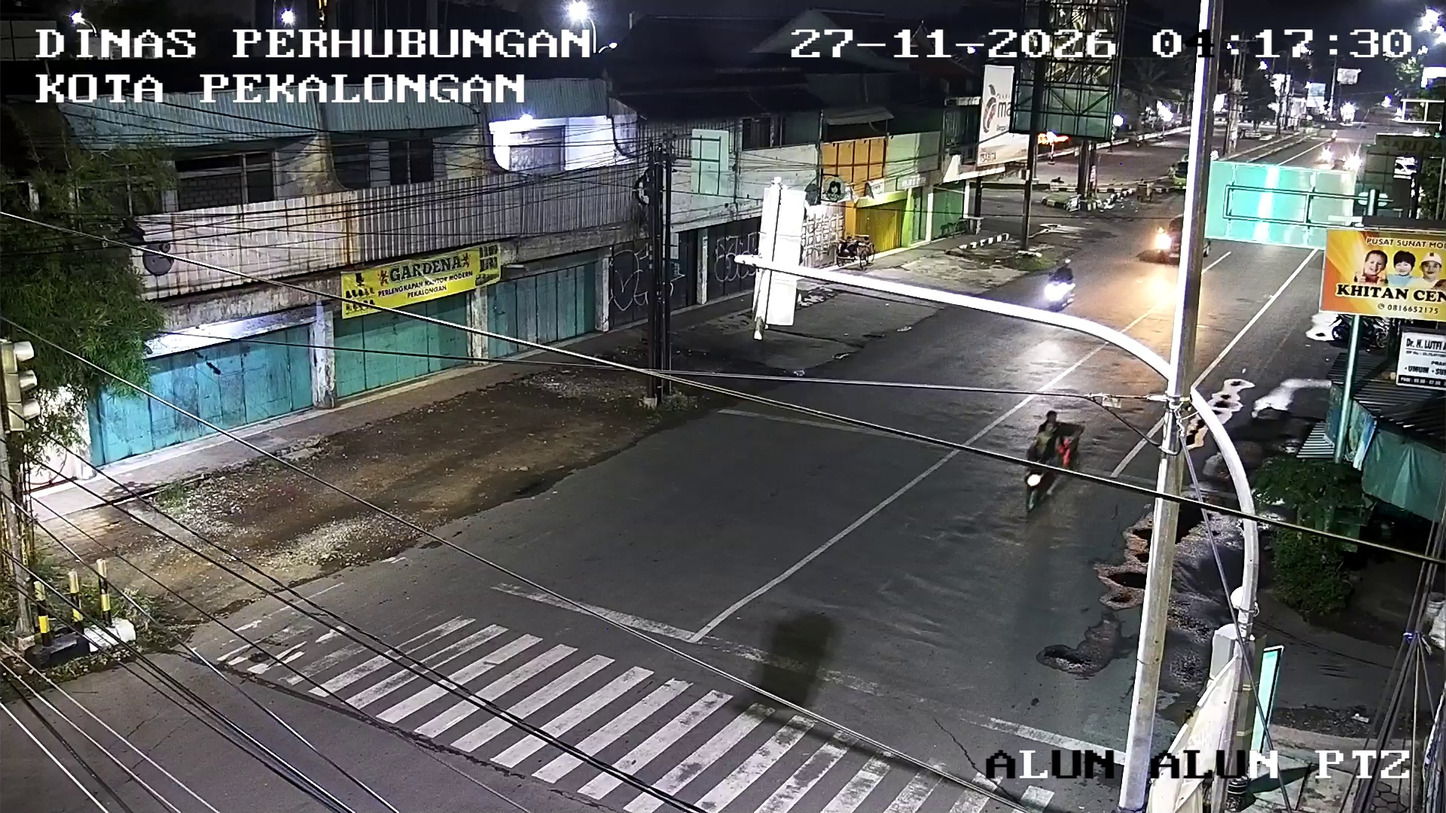Gerobak: (834, 232, 875, 271)
